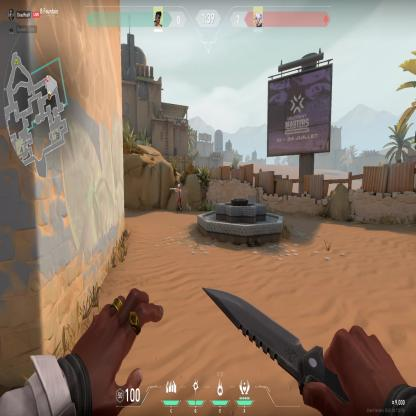enemy: (176, 183, 183, 213)
